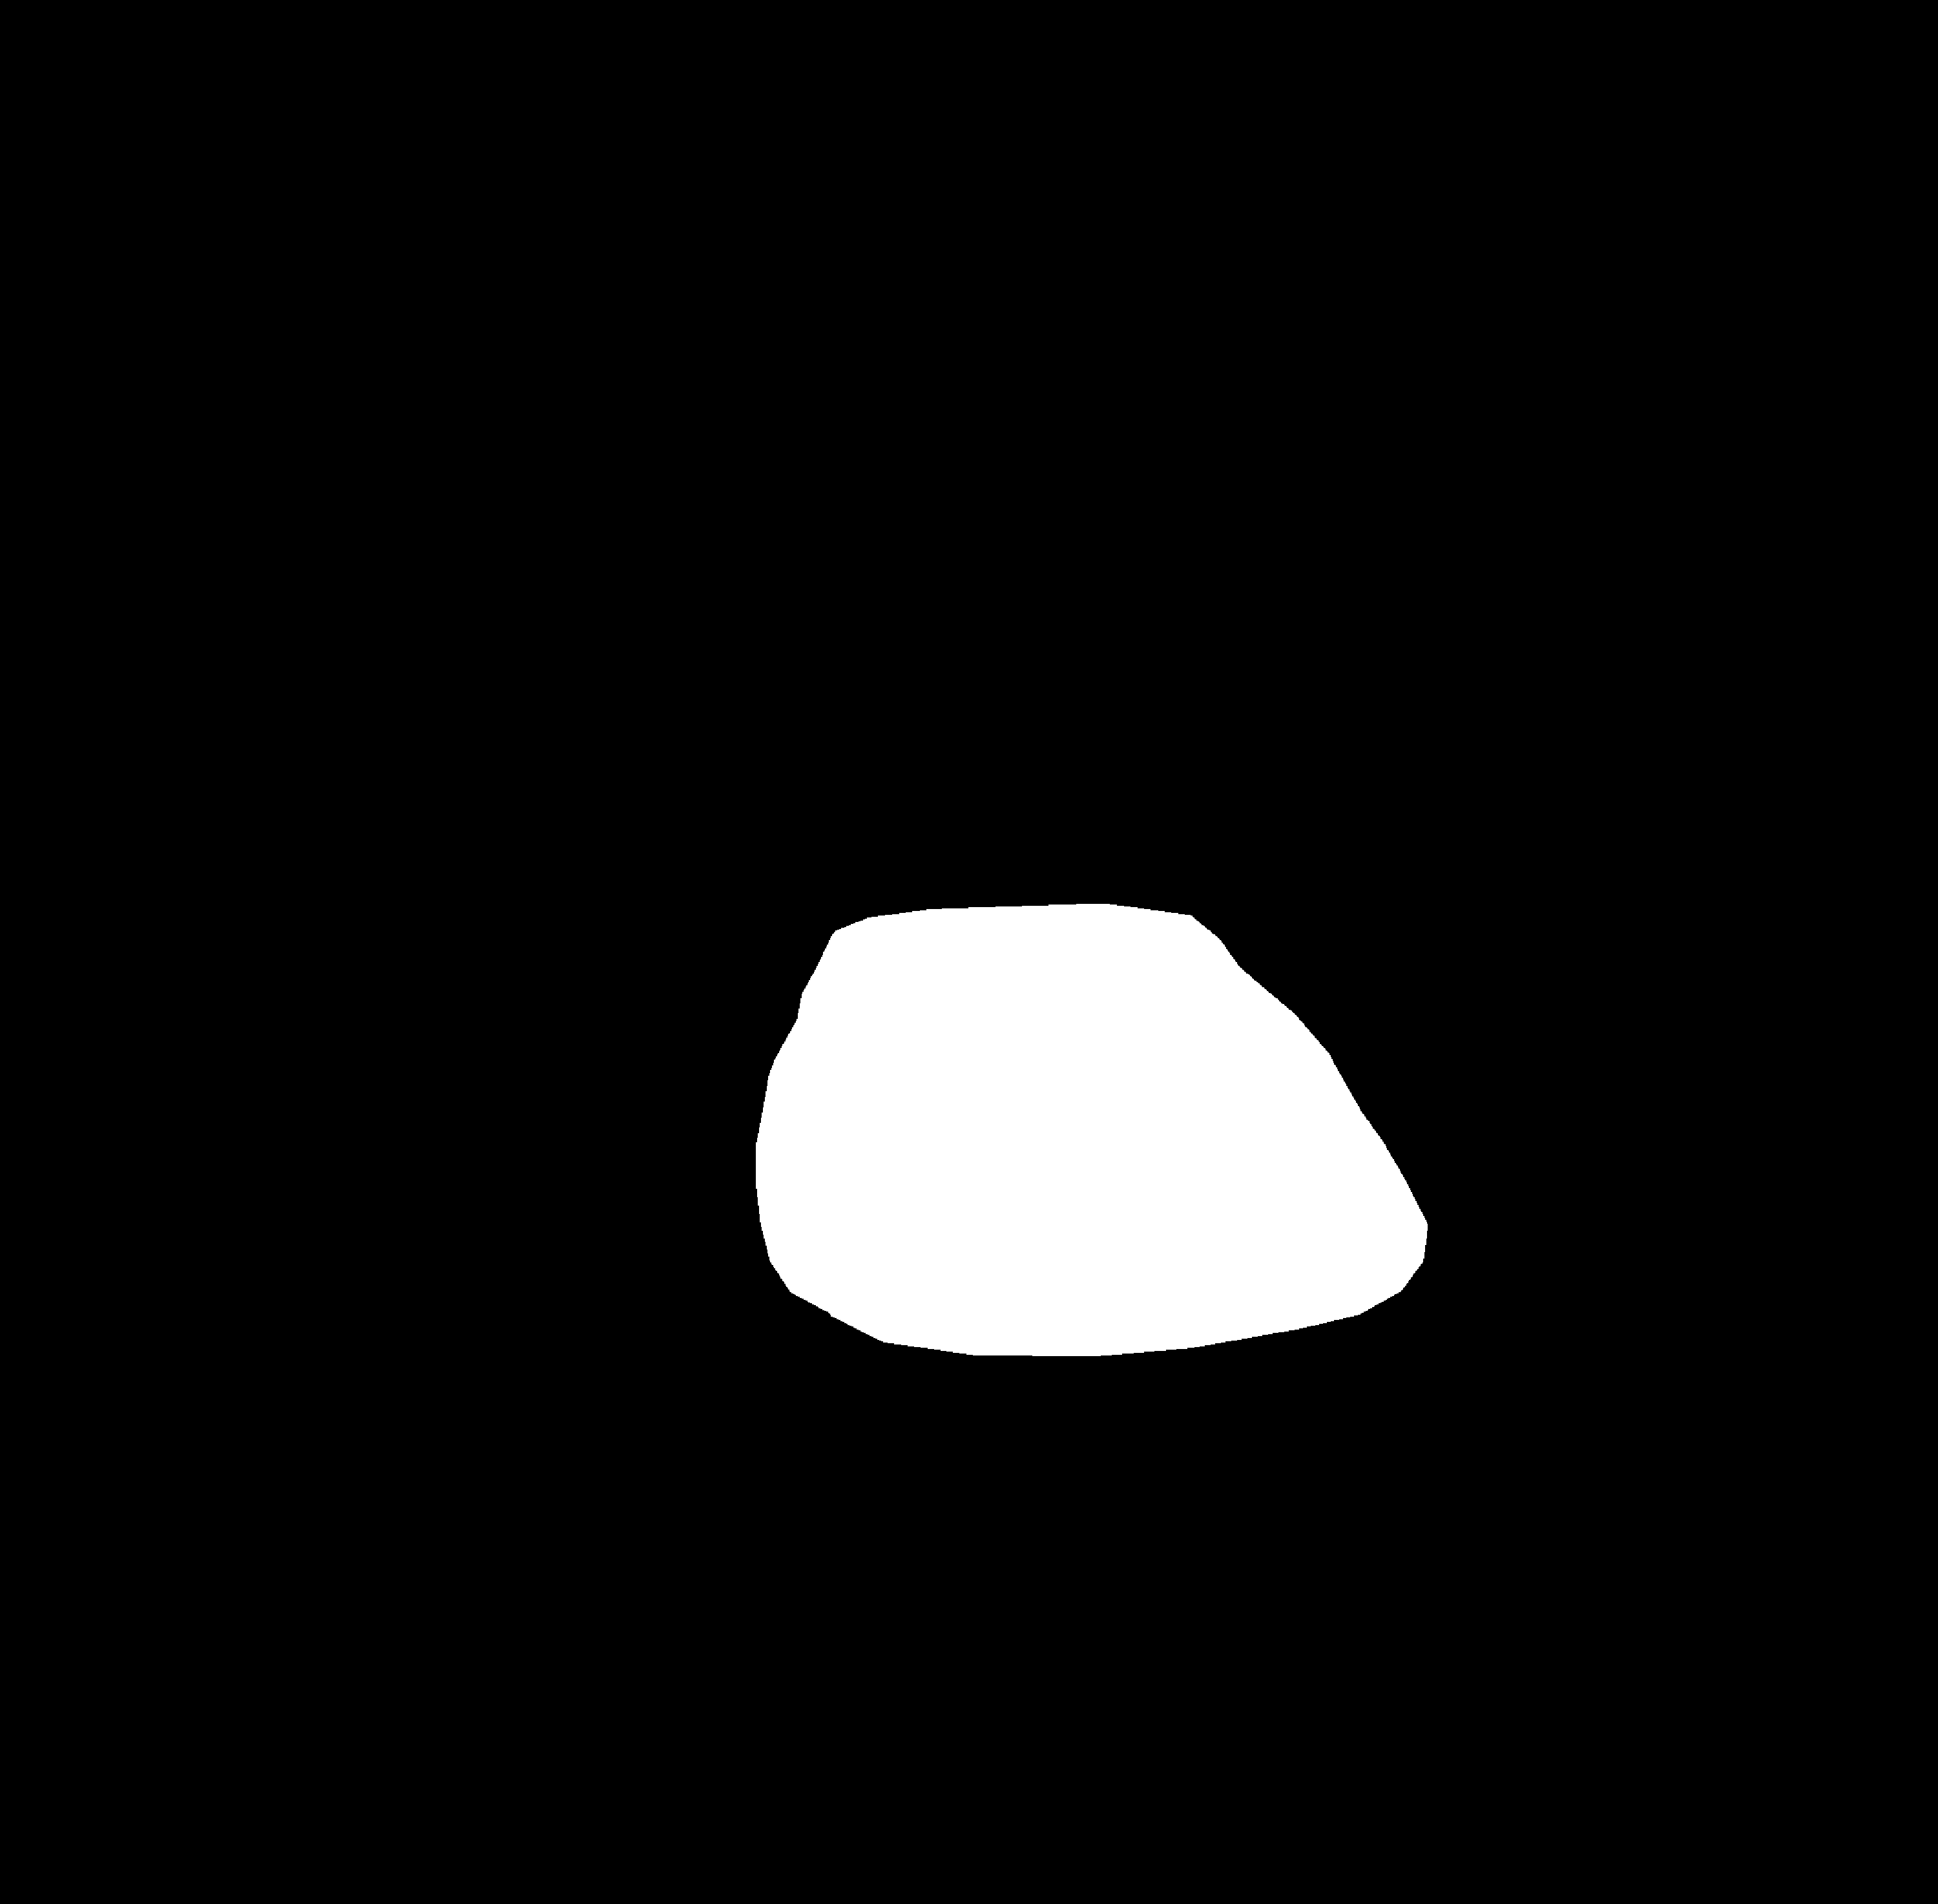heart: (788, 947, 1433, 1360)
left_lung: (302, 309, 887, 1562)
right_lung: (1014, 326, 1589, 1423)
